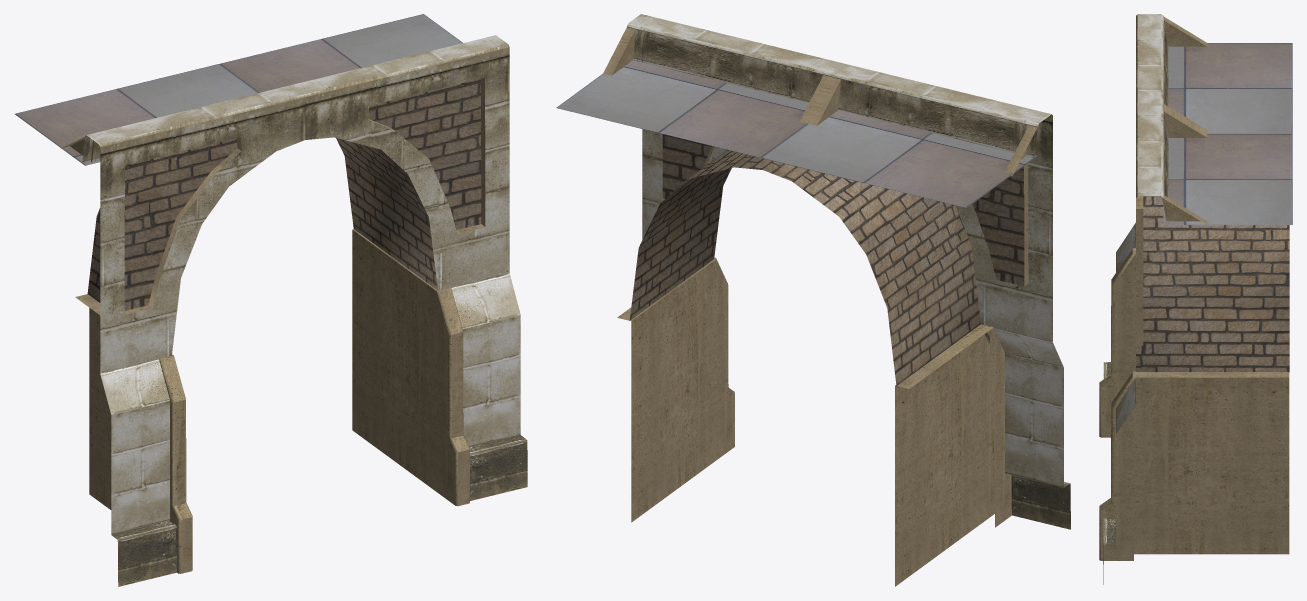
File: castle-wall-gate-new.fbx
3 views of the same model, side by side, from view 1: azimuth 30°, elevation 25°; view 2: azimuth 150°, elevation 25°; view 3: azimuth 270°, elevation 25° (orthographic). The views are drawn at different scales.
Parts seen in each view (by area): view 1: castle-wall-gate-new; view 2: castle-wall-gate-new; view 3: castle-wall-gate-new.
Part boxes in pixels (box(x1,y1,x2,y2)): castle-wall-gate-new: box(15, 14, 527, 586); castle-wall-gate-new: box(556, 14, 1070, 586); castle-wall-gate-new: box(1099, 14, 1292, 584).
Bounding box in the file's own units: 400 × 400 × 180.
